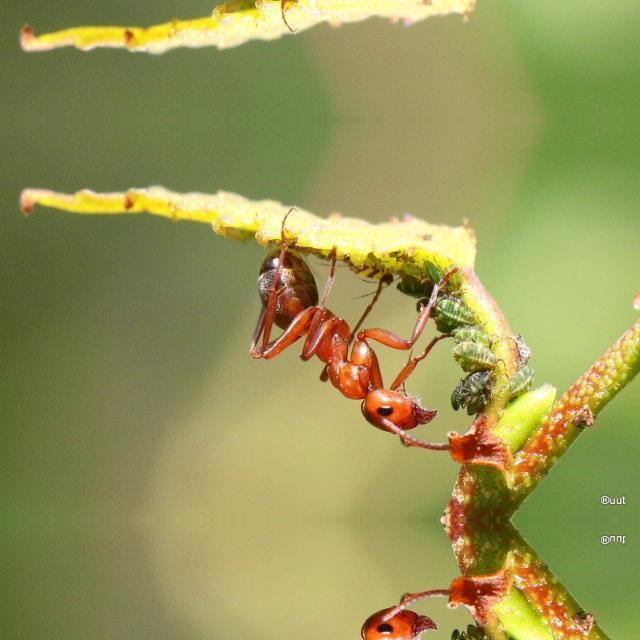Formica: (211, 227, 471, 461), (211, 578, 471, 640)
